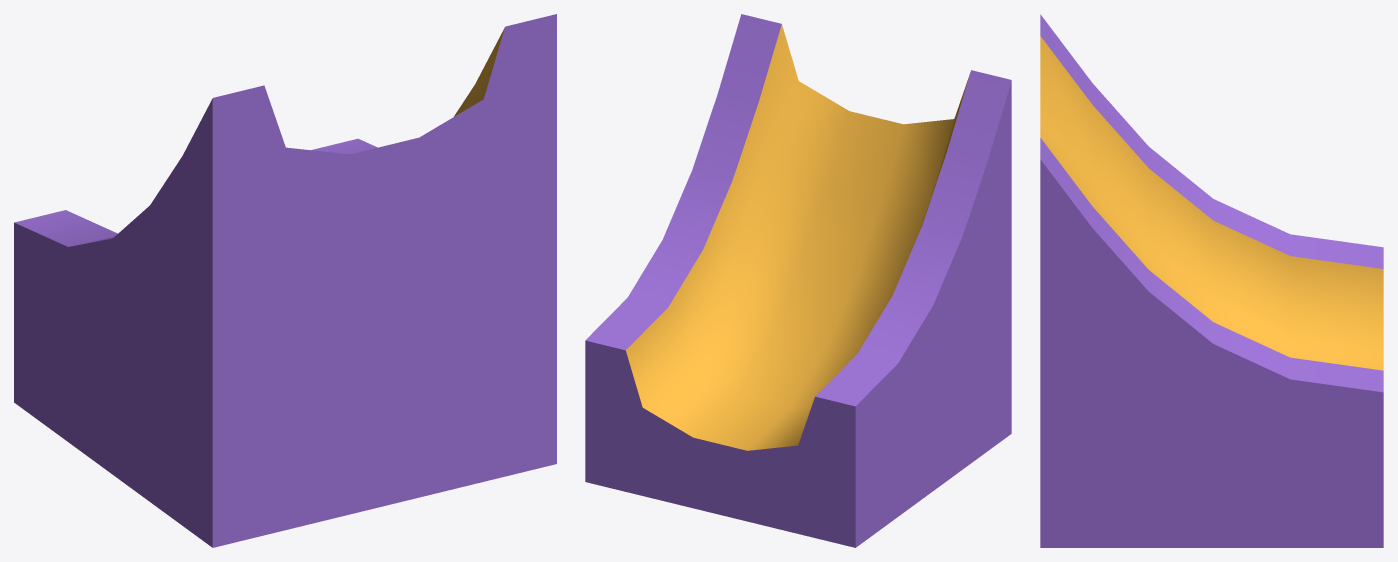
Rendered from kenney-marble-ramp-start-solid-d.glb.
The picture shows the model from 3 angles, left to right: view 1: azimuth 30°, elevation 25°; view 2: azimuth 150°, elevation 25°; view 3: azimuth 270°, elevation 25°; orthographic projection. The views are drawn at different scales.
Parts seen in each view (by area): view 1: ramp-start-solid-d; view 2: ramp-start-solid-d; view 3: ramp-start-solid-d.
Part boxes in pixels (x1,y1,x2,y2): ramp-start-solid-d: [14, 14, 556, 547]; ramp-start-solid-d: [585, 14, 1011, 547]; ramp-start-solid-d: [1040, 14, 1383, 547].
Size of the model in its own units: 1 by 1.25 by 1.
1 material, 1 textured.
